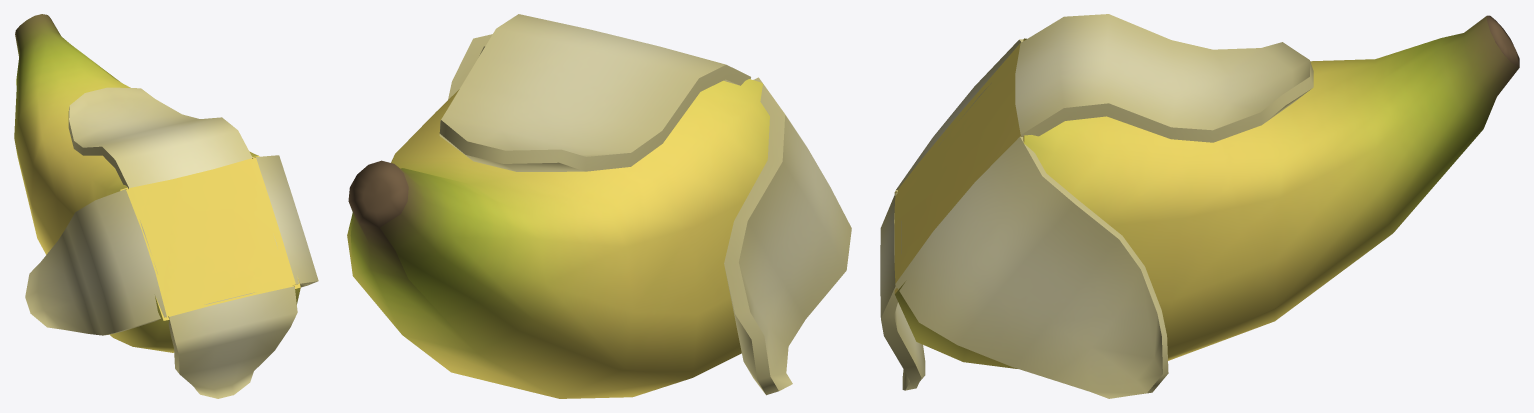
The model's file is banana_Costume.fbx.
The picture shows the model from 3 angles, left to right: view 1: azimuth 30°, elevation 25°; view 2: azimuth 150°, elevation 25°; view 3: azimuth 270°, elevation 25°; orthographic projection. The views are drawn at different scales.
Visible parts, largest first — view 1: banana_Costume; view 2: banana_Costume; view 3: banana_Costume.
Part boxes in pixels (left/top/right/bottom): banana_Costume: left=14, top=14, right=318, bottom=398; banana_Costume: left=347, top=14, right=851, bottom=398; banana_Costume: left=880, top=14, right=1519, bottom=398.
Bounding box in the file's own units: 292 × 283 × 445.
